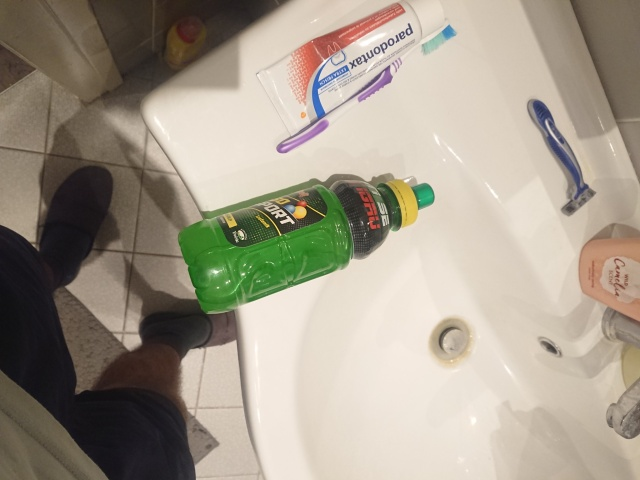Vindi Iso Sport Lemon-Grapefruit 500mL: (175, 177, 437, 318)
